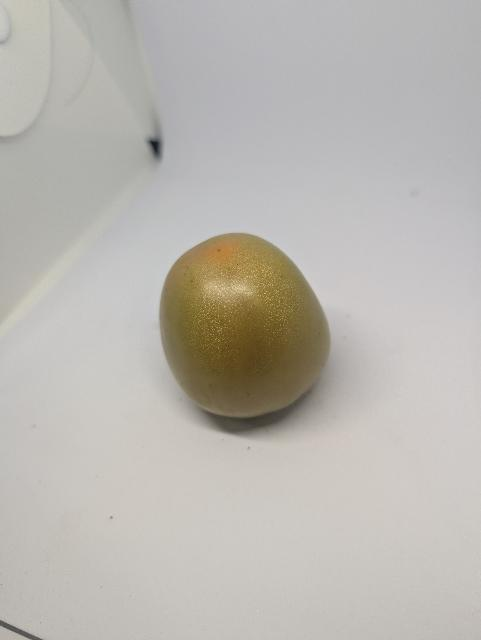breaker: (160, 233, 331, 418)
